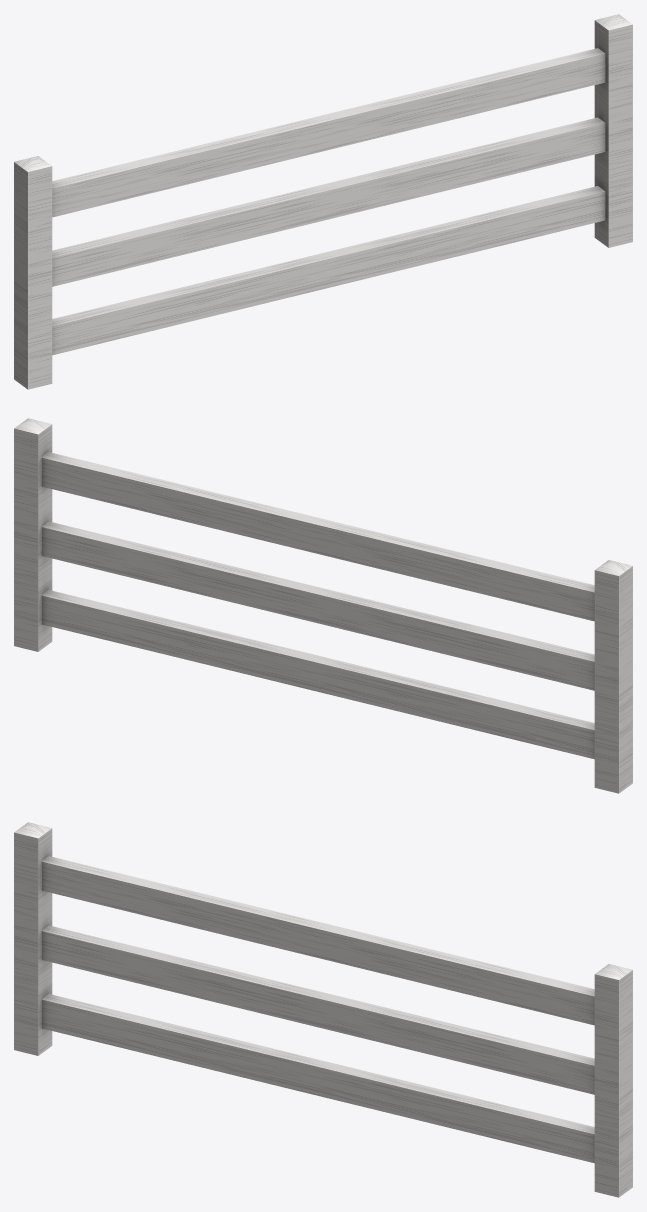
Rendered from Fence.obj.
The picture shows the model from 3 angles, top to bottom: view 1: azimuth 30°, elevation 25°; view 2: azimuth 150°, elevation 25°; view 3: azimuth 330°, elevation 25°; orthographic projection.
Parts seen in each view (by area): view 1: Fence_mesh; view 2: Fence_mesh; view 3: Fence_mesh.
Part boxes in pixels (x1,y1,x2,y2): Fence_mesh: (14, 14, 632, 389); Fence_mesh: (14, 418, 632, 793); Fence_mesh: (14, 822, 632, 1197).
Size of the model in its own units: 11.63 by 4.13 by 0.4672.
1 material, 1 textured.
